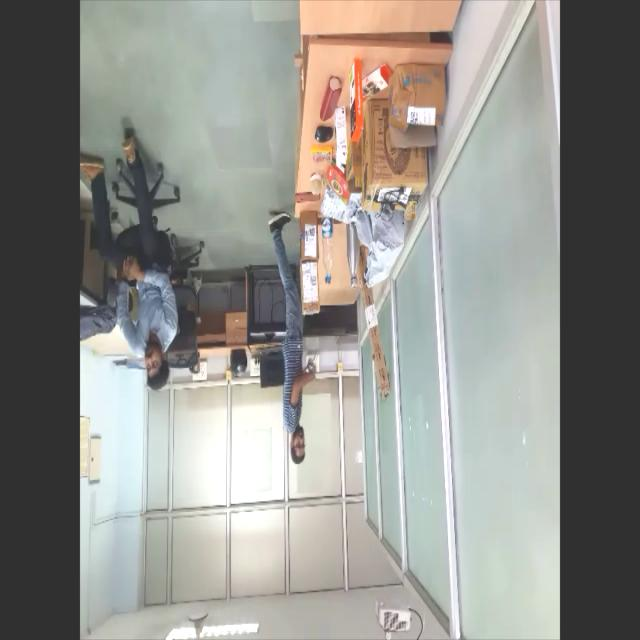normal: (81, 115, 181, 402), (264, 202, 316, 472)
